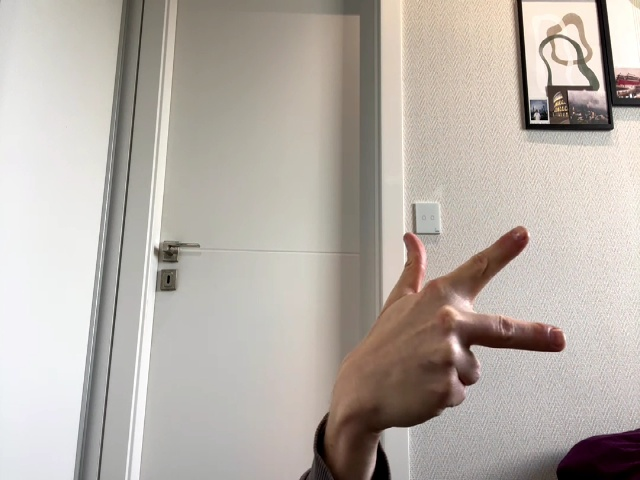K: (351, 226, 566, 442)
